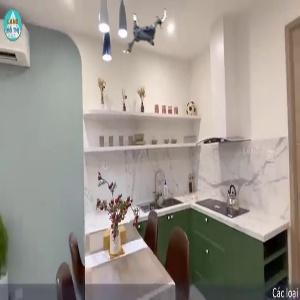drone: (116, 3, 176, 63)
